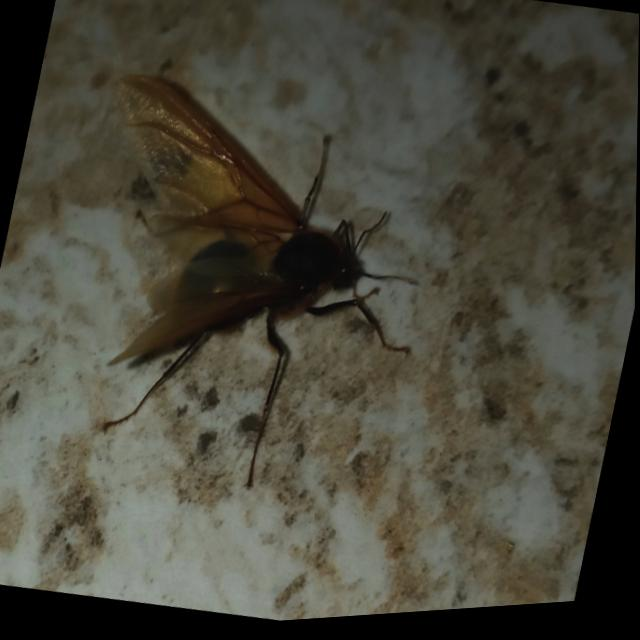Alive-Male-Alate: (39, 56, 460, 530)
